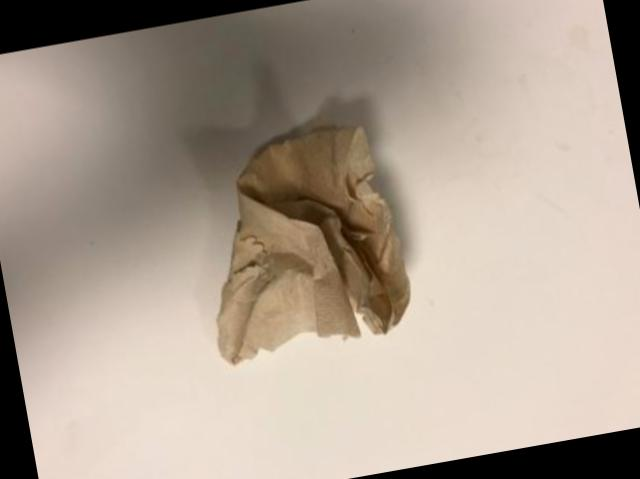cardboard paper: (218, 114, 410, 360)
